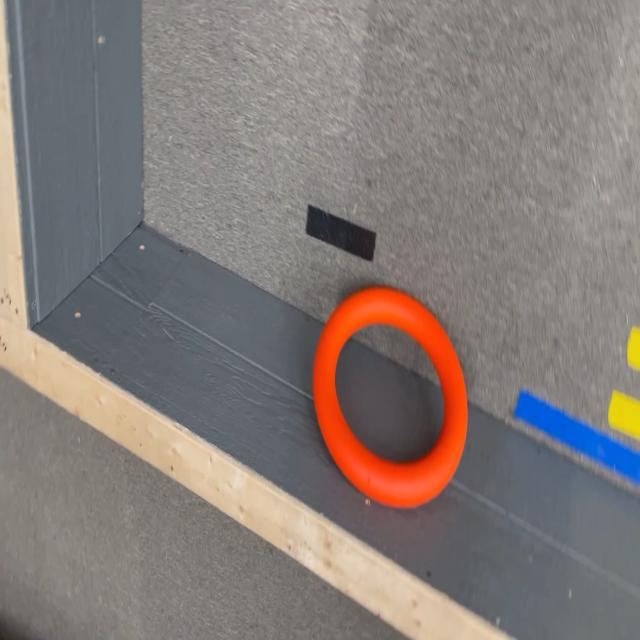note: (314, 290, 468, 510)
